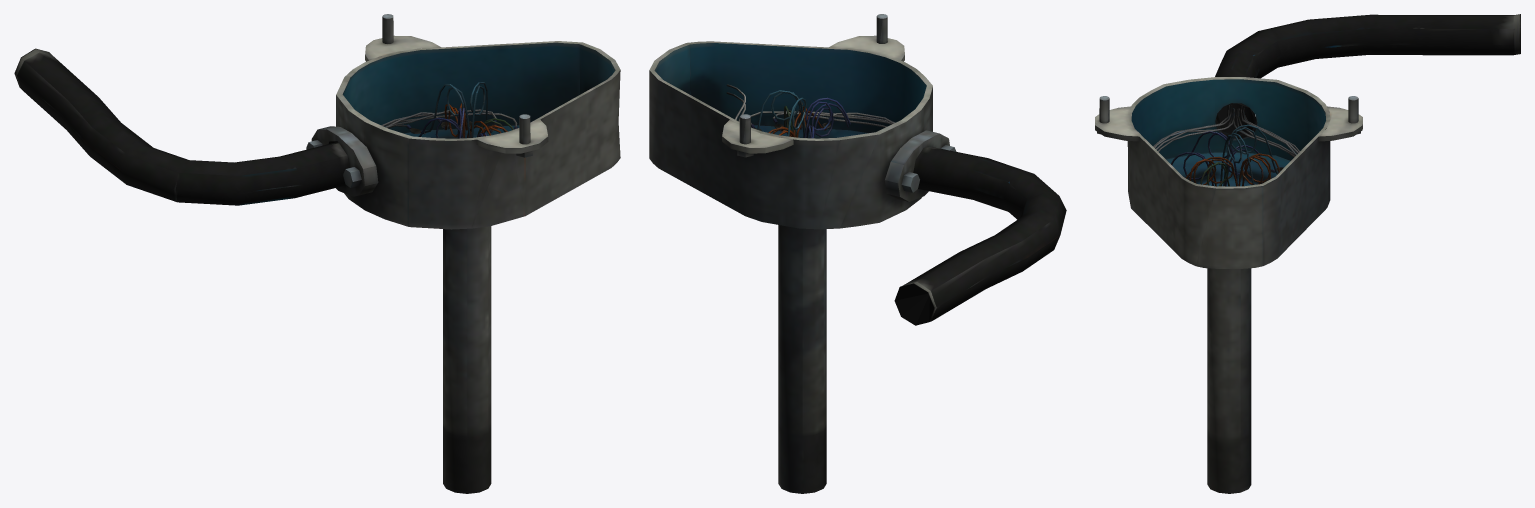
Rendered from mufta.fbx.
3 views of the same model, side by side, from view 1: azimuth 30°, elevation 25°; view 2: azimuth 150°, elevation 25°; view 3: azimuth 270°, elevation 25° (orthographic). The views are drawn at different scales.
Parts seen in each view (by area): view 1: mufta; view 2: mufta; view 3: mufta.
Part boxes in pixels (left/top/right/bottom): mufta: left=14, top=14, right=620, bottom=493; mufta: left=649, top=14, right=1066, bottom=493; mufta: left=1095, top=14, right=1520, bottom=493.
Bounding box in the file's own units: 0.4731 × 0.4274 × 0.432.
